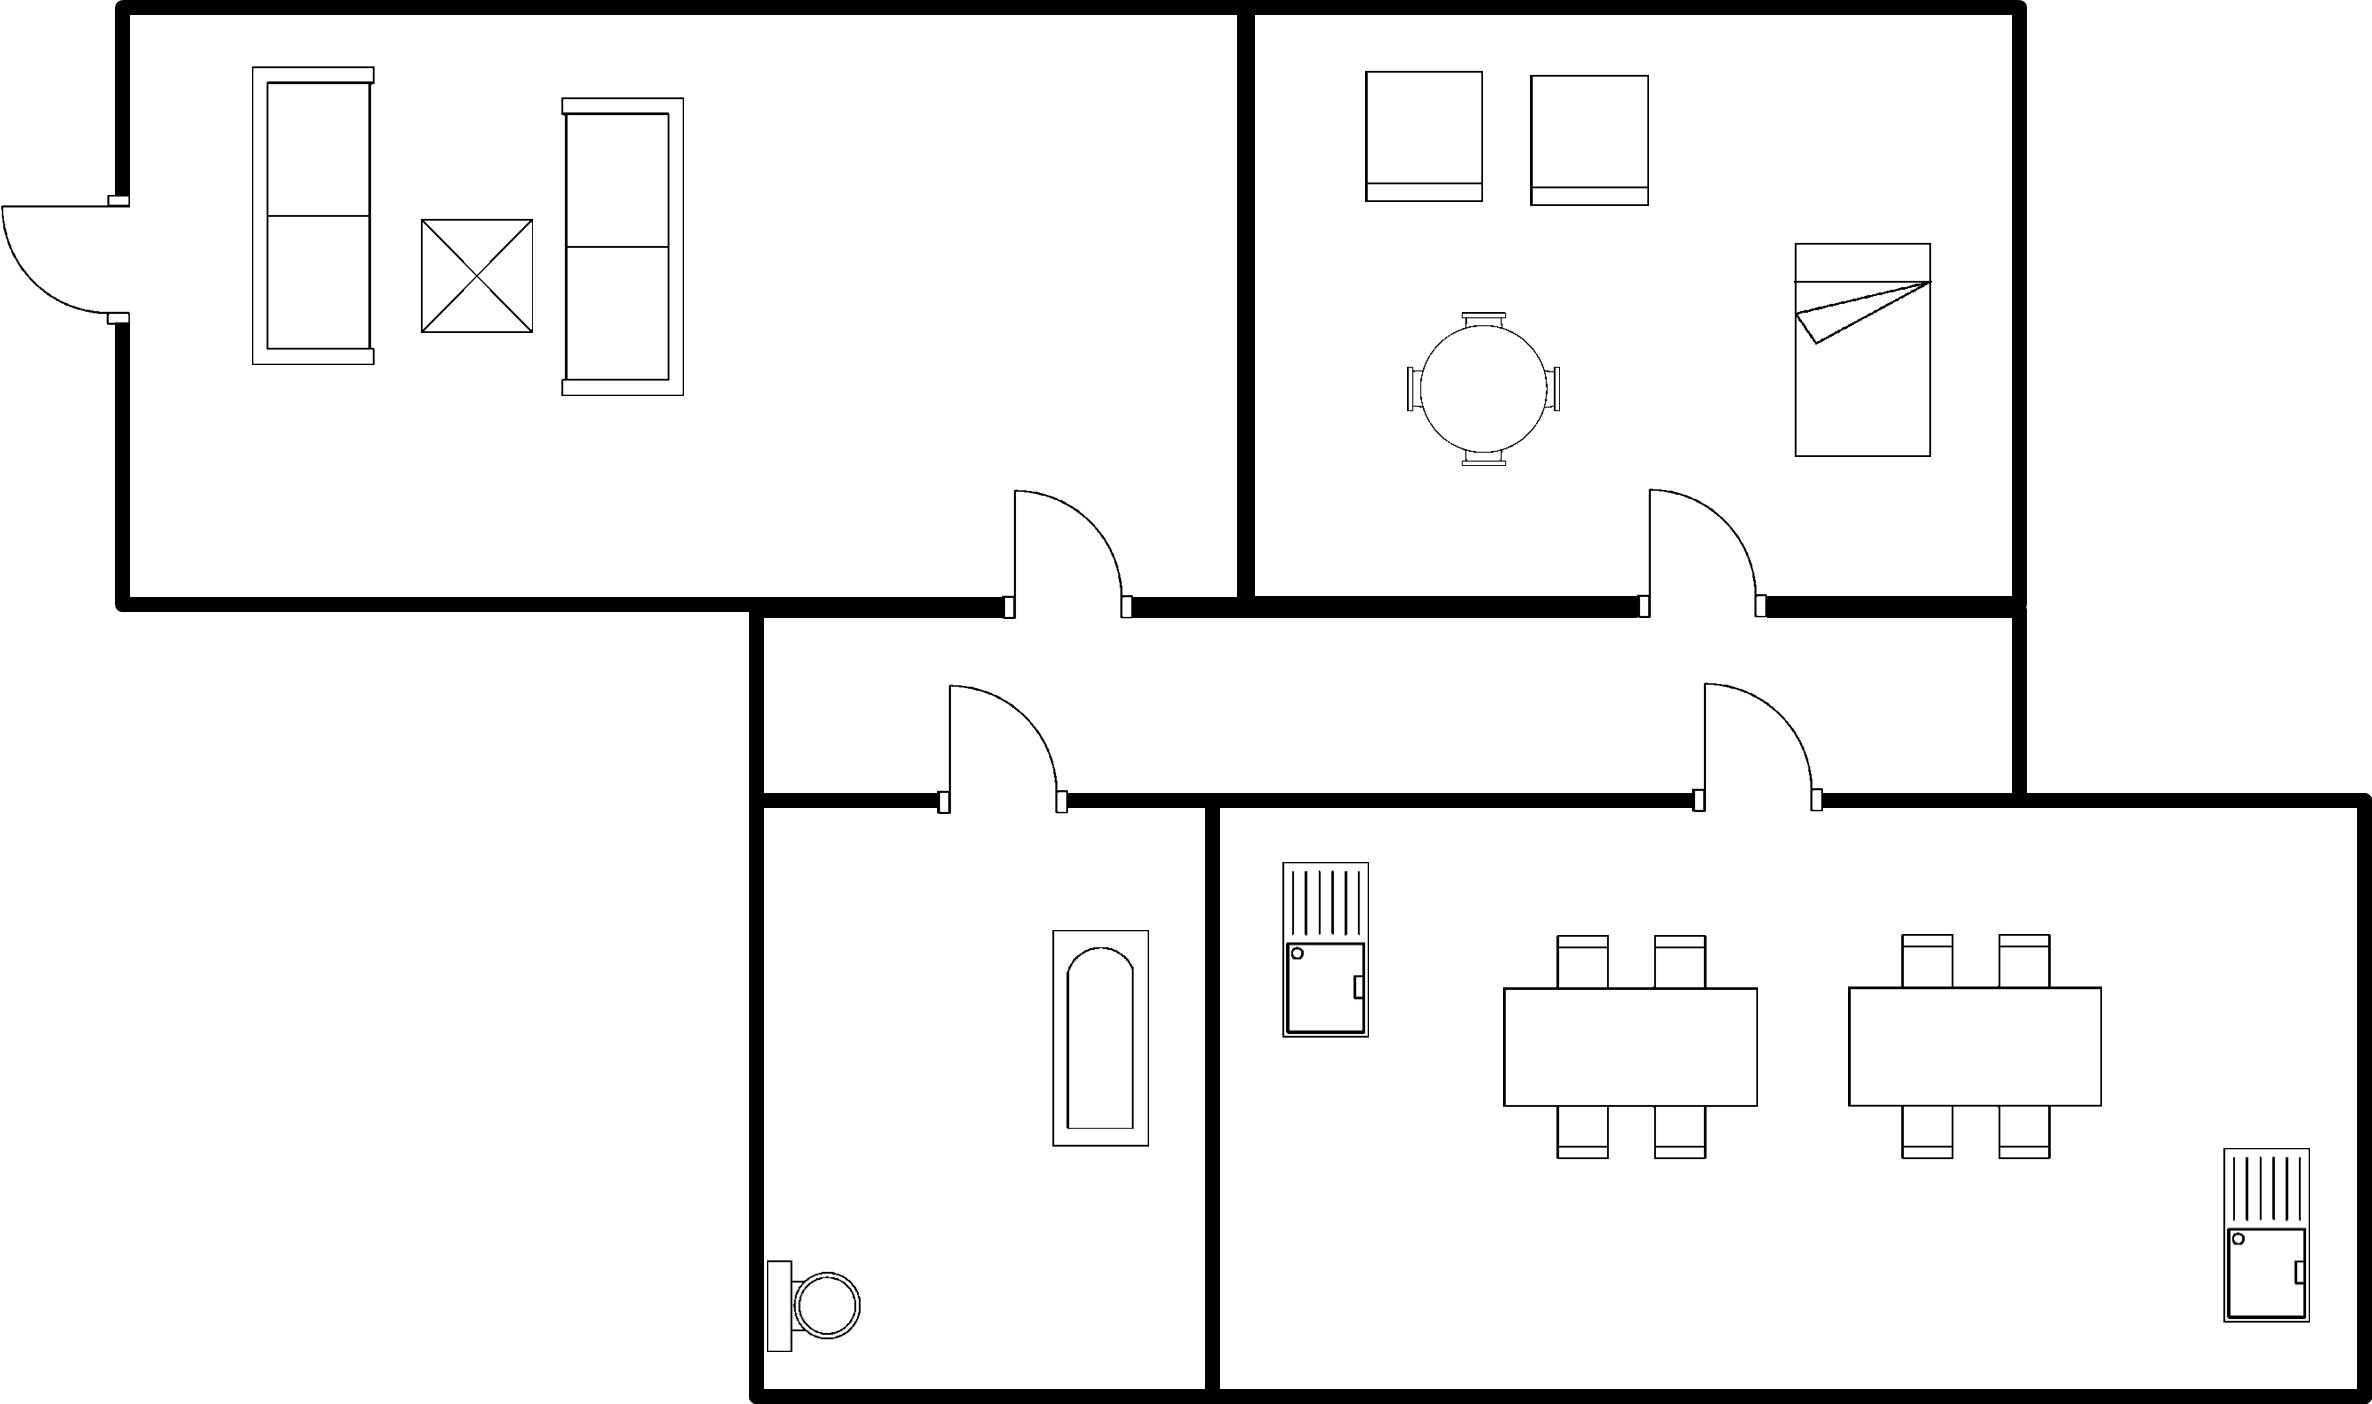bed: (1780, 225, 1946, 474)
coffee_table: (412, 205, 541, 347)
dining_table: (1837, 920, 2125, 1174), (1485, 919, 1771, 1174)
large_sink: (756, 1249, 874, 1369)
large_sofa: (237, 52, 390, 383), (552, 81, 702, 408)
round_table: (1393, 302, 1573, 481)
sink: (1268, 847, 1385, 1051), (2205, 1134, 2324, 1332)
small_sofa: (1352, 56, 1493, 225), (1520, 64, 1664, 217)
tub: (1032, 913, 1164, 1163)
